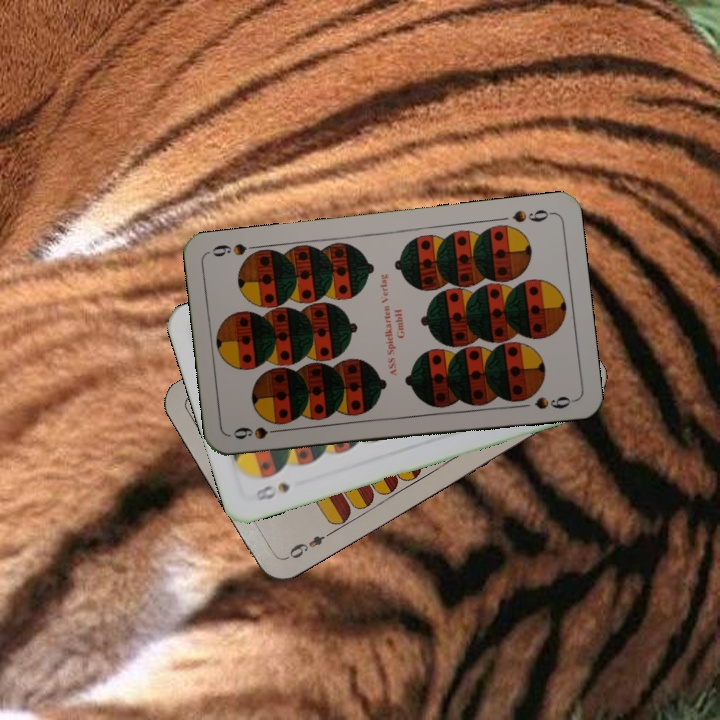E9: (281, 527, 335, 563)
S8: (251, 478, 293, 504)
S9: (229, 423, 288, 442), (508, 205, 555, 225)
